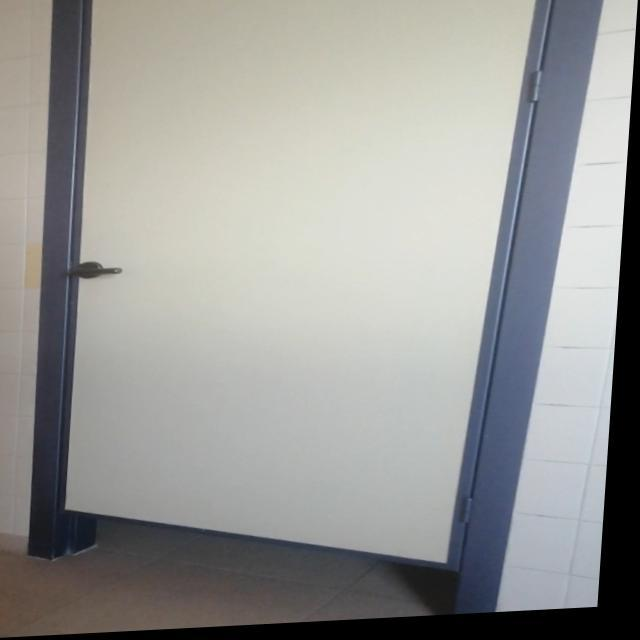door_handle: (70, 266, 129, 280)
